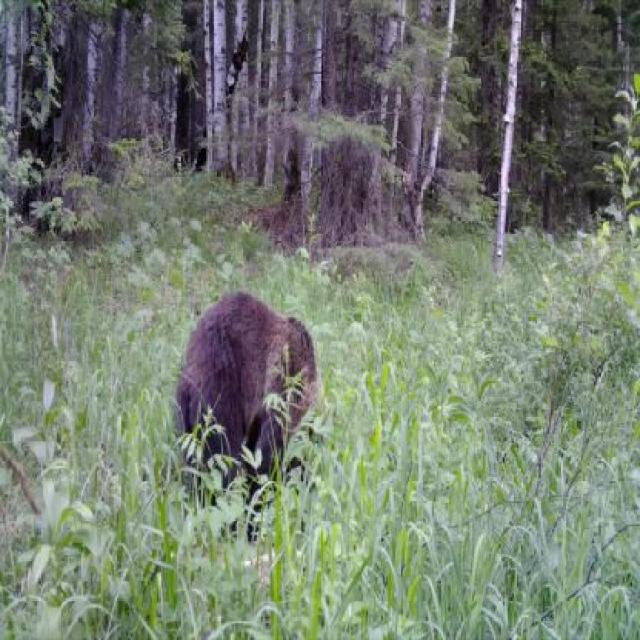Bear: (170, 291, 322, 532)
